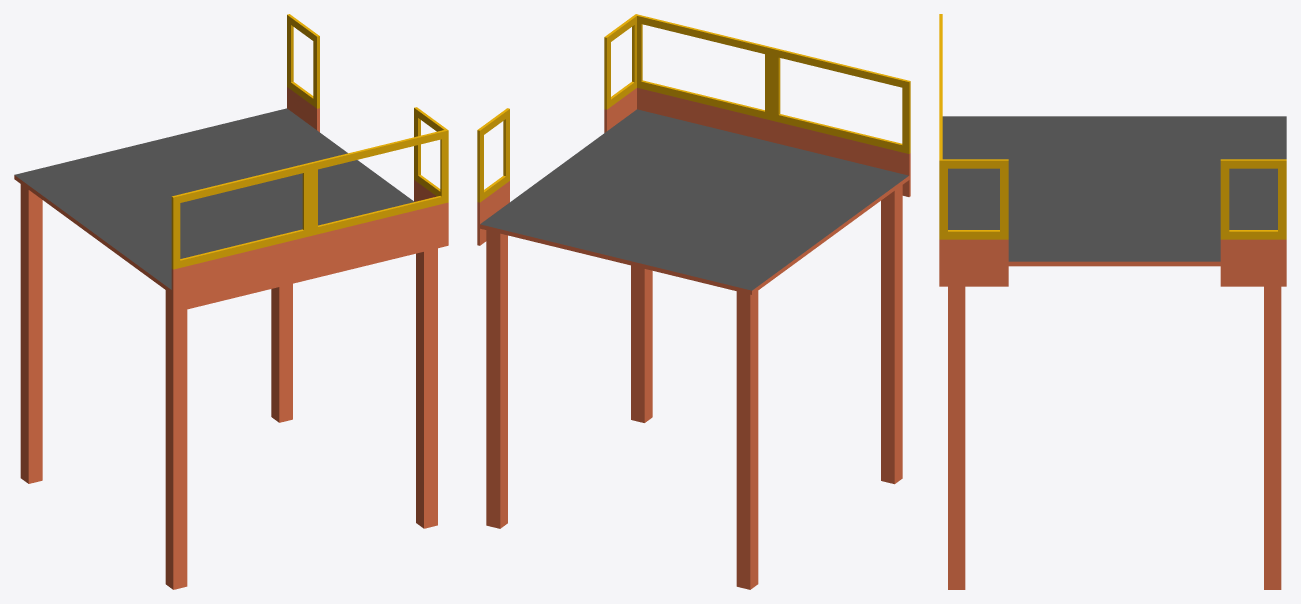
Rendered from Prop_Industrial_Platform_Walkway_Wide_Corner_Connector_01.FBX.
3 views of the same model, side by side, from view 1: azimuth 30°, elevation 25°; view 2: azimuth 150°, elevation 25°; view 3: azimuth 270°, elevation 25° (orthographic). The views are drawn at different scales.
Parts seen in each view (by area): view 1: Prop_Industrial_Platform_Walkway_Wide_Corner_Connector_01; view 2: Prop_Industrial_Platform_Walkway_Wide_Corner_Connector_01; view 3: Prop_Industrial_Platform_Walkway_Wide_Corner_Connector_01.
Boxes of the visible parts, bbox=[...] form: Prop_Industrial_Platform_Walkway_Wide_Corner_Connector_01: bbox=[14, 14, 448, 589]; Prop_Industrial_Platform_Walkway_Wide_Corner_Connector_01: bbox=[477, 14, 910, 589]; Prop_Industrial_Platform_Walkway_Wide_Corner_Connector_01: bbox=[939, 14, 1286, 589].
Size of the model in its own units: 4000 by 5500 by 4000.
